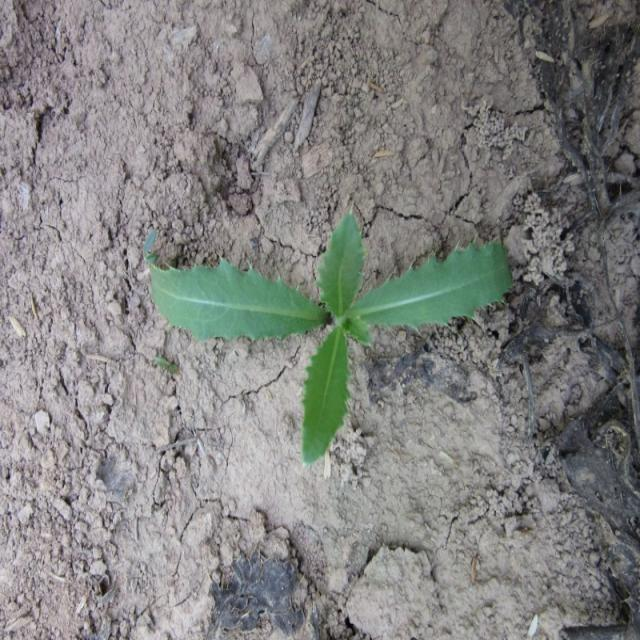field_thistle: (119, 203, 534, 465)
